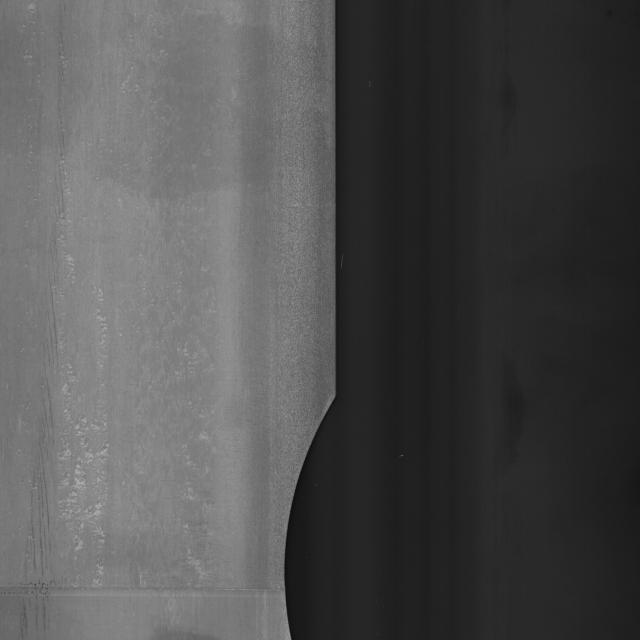crease: (3, 565, 301, 614)
silk_spot: (268, 370, 356, 640)
